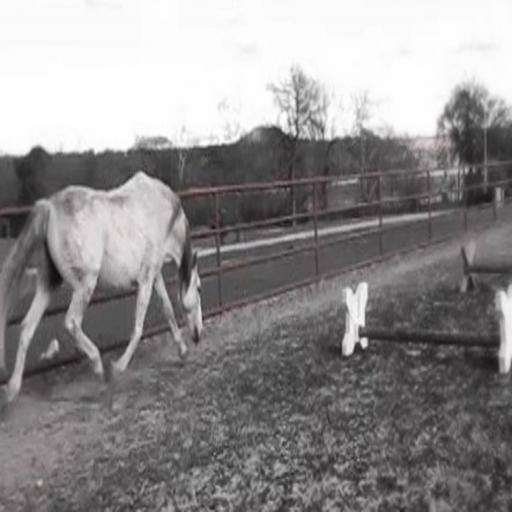Horse: (0, 165, 206, 415)
